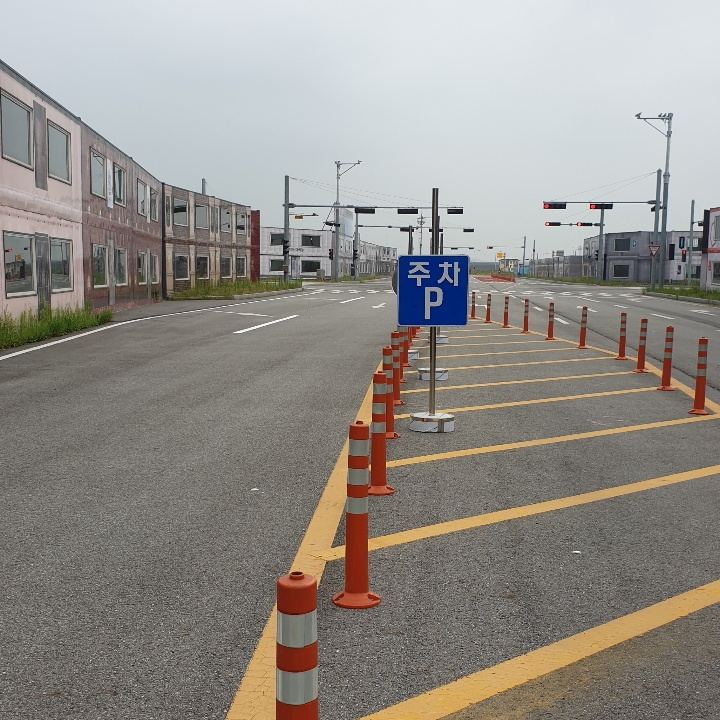parking: (419, 280, 446, 324)
